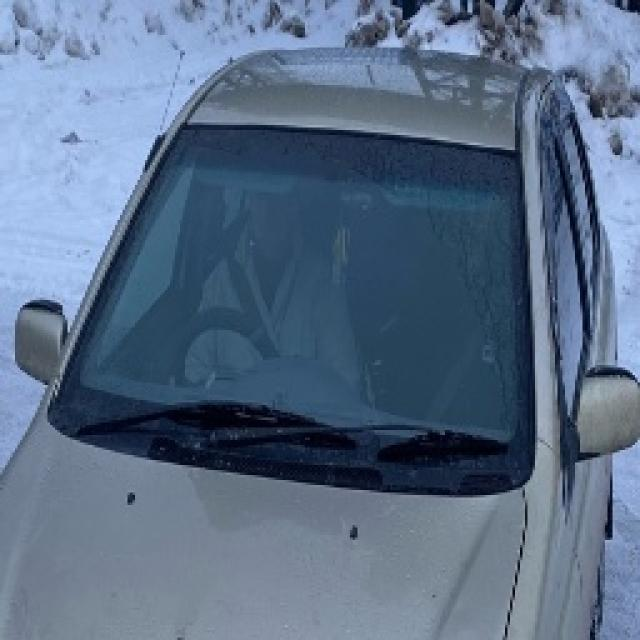windshield: (66, 110, 540, 493)
